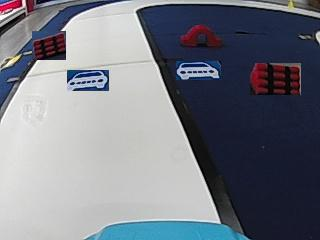bridge: (179, 24, 220, 47)
